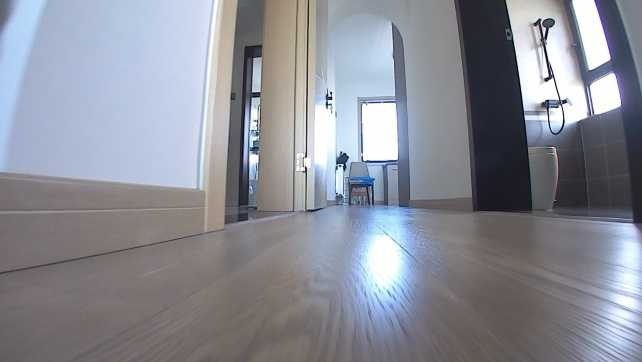door_anno: (297, 0, 335, 212)
toilet: (528, 145, 559, 211)
